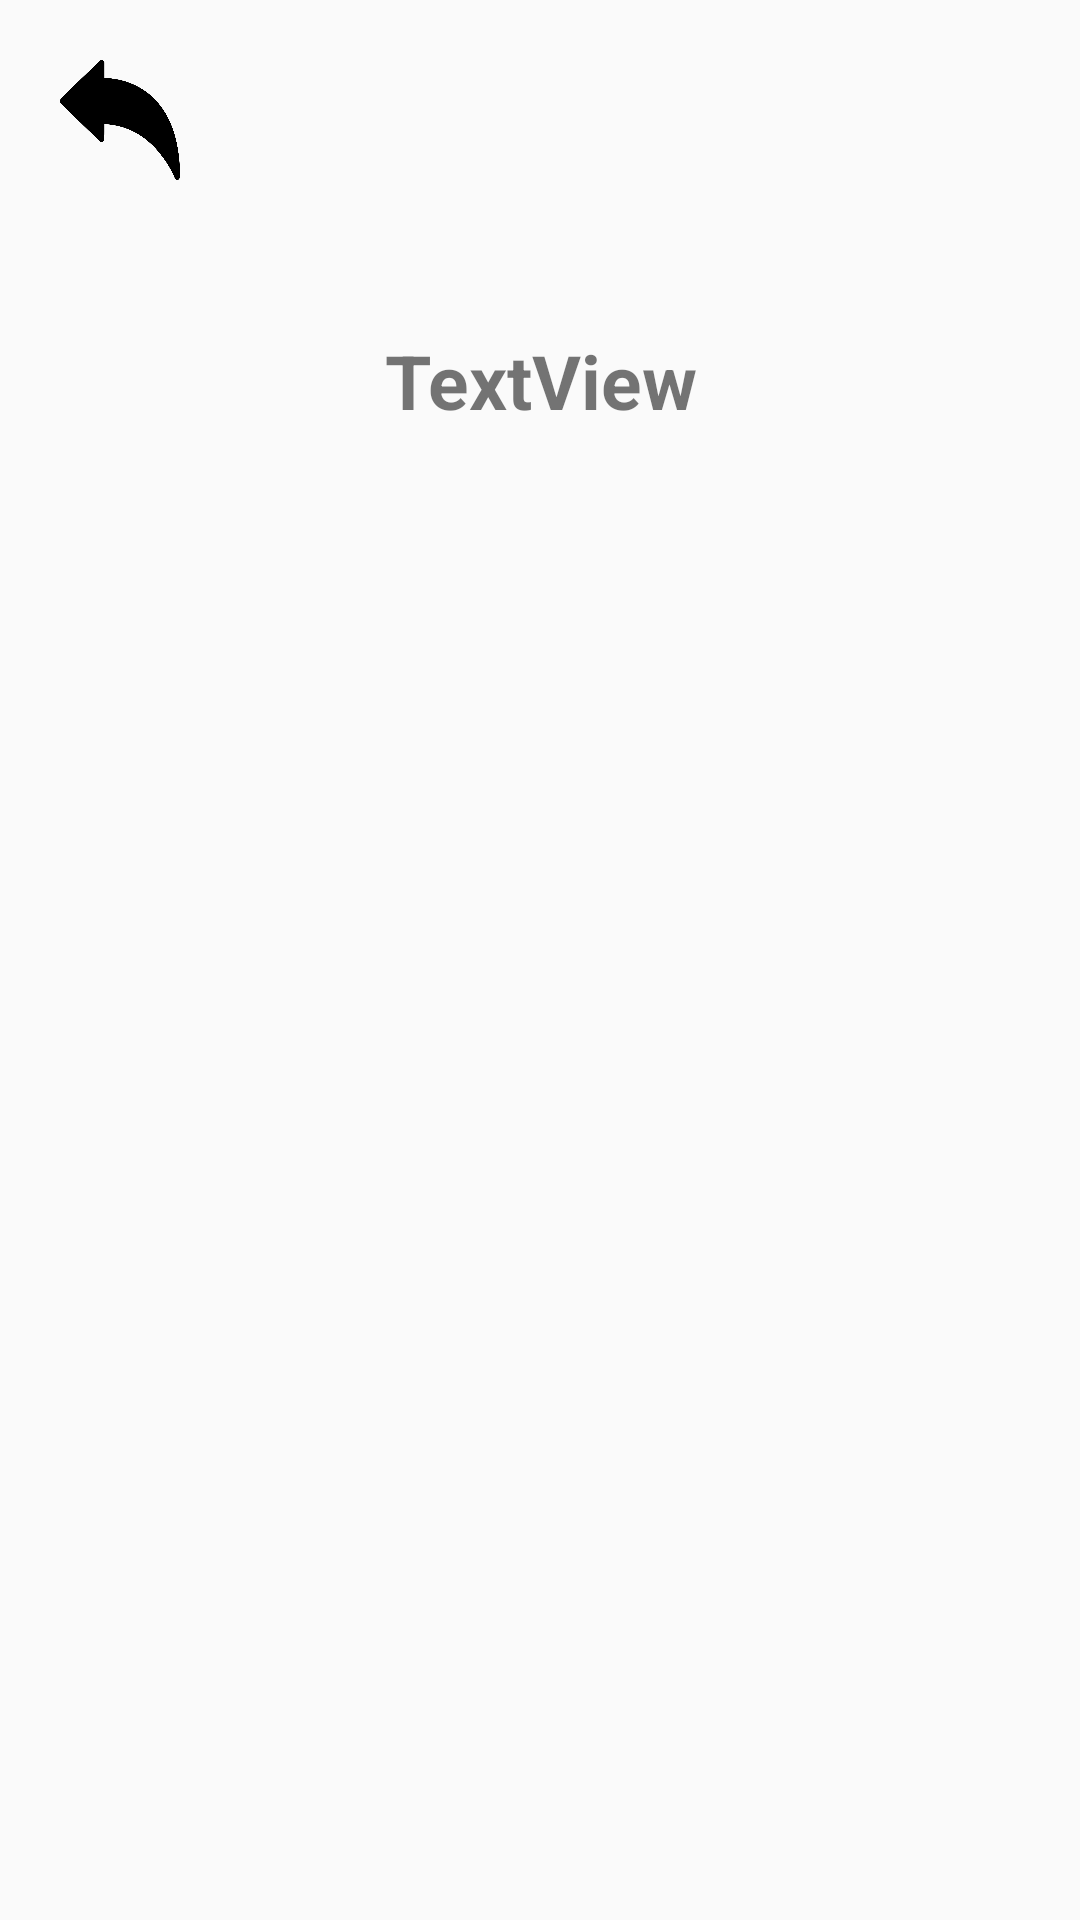

Where to tap for icons on this 1080x1920 app screen, as point (x, y):
back arrow: point (120, 120)
